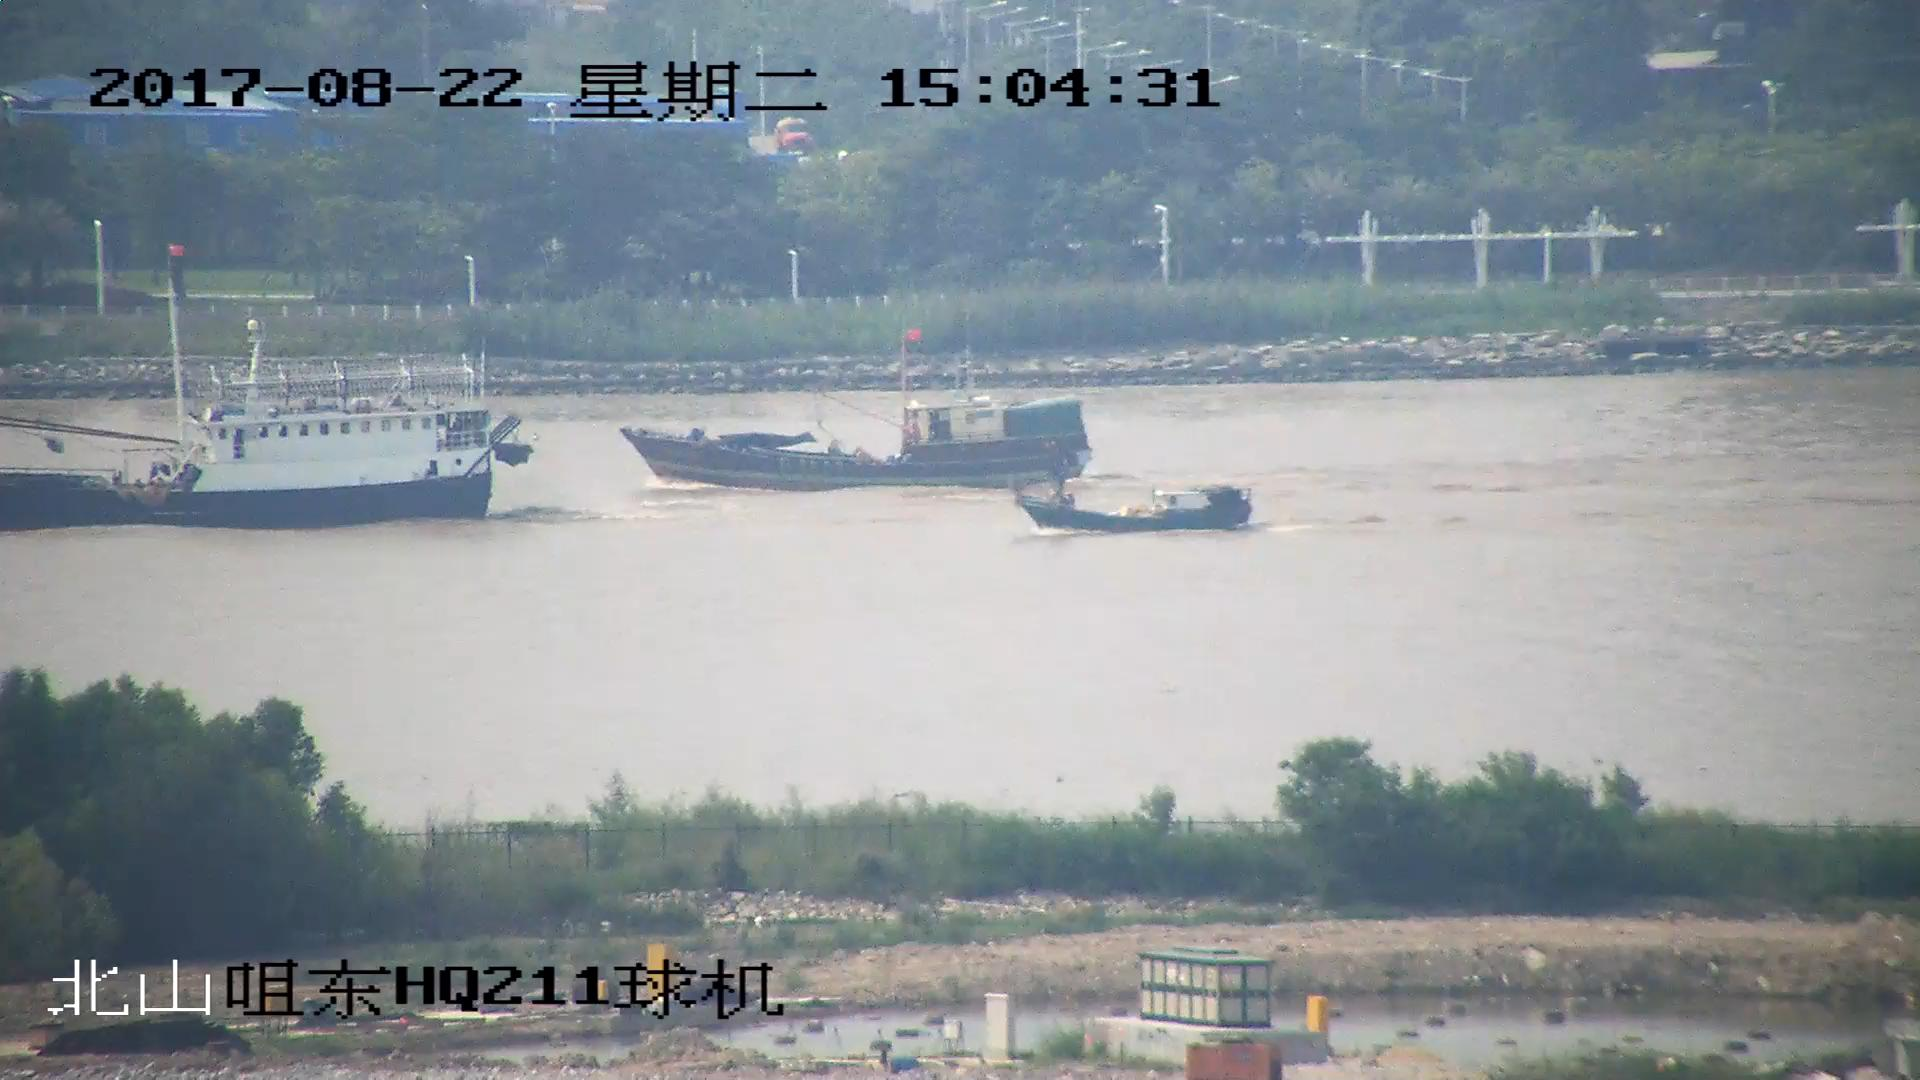fishing boat: (1, 247, 548, 527), (629, 325, 1089, 490), (1019, 474, 1255, 535)
